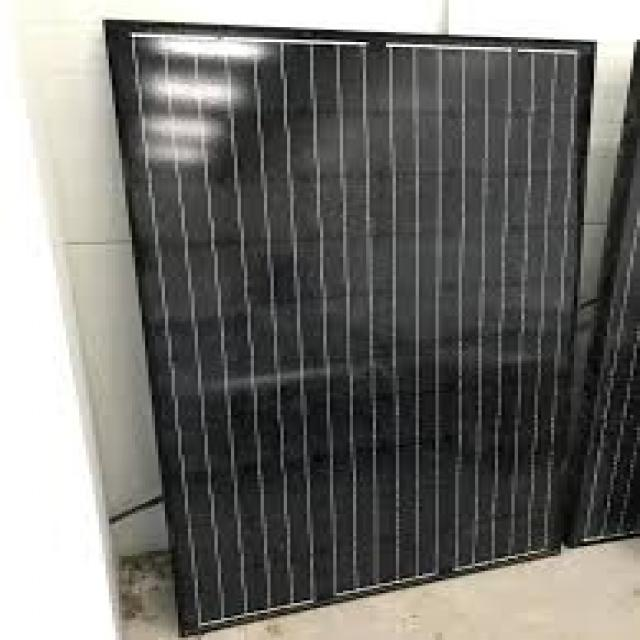no faulty: (139, 41, 585, 578)
